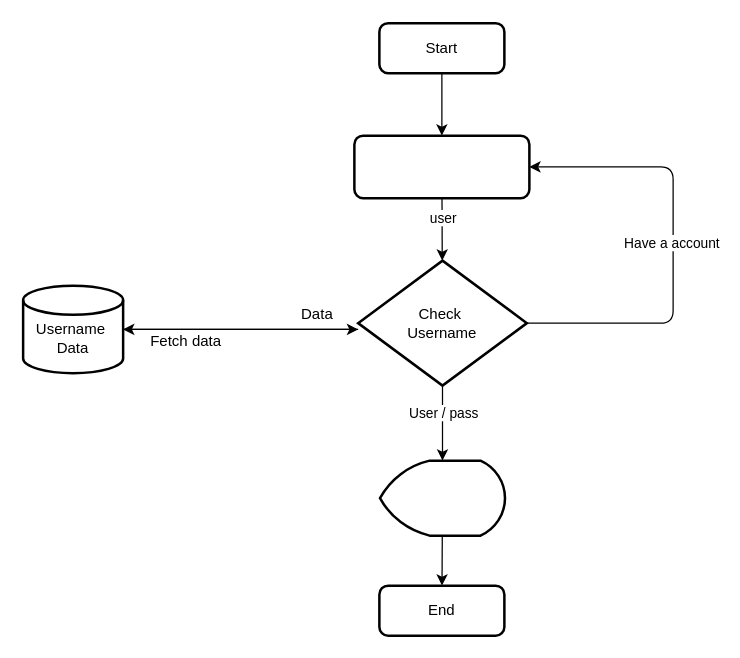
Some shapes in this 740 by 658 pixel diagram are drawn without their labels. Each missing label, with the centre of its shape:
"Login" goes at (442,497).
"User / pass / conf-pass" goes at (441,166).
